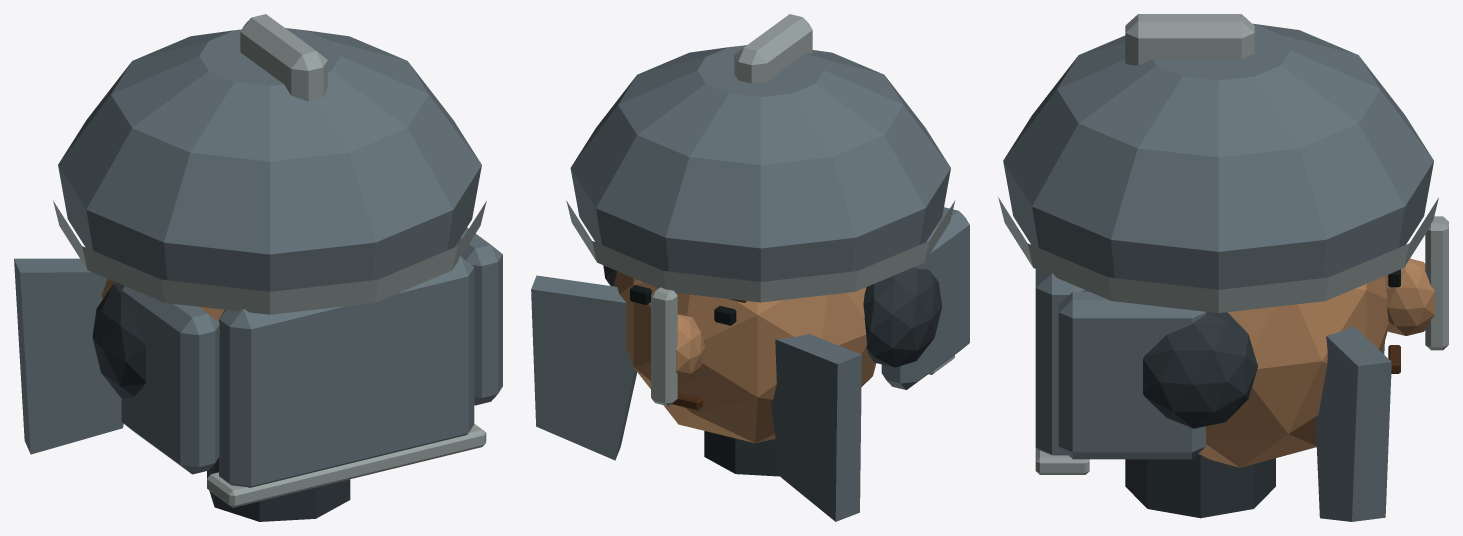
The model's file is Head.glb.
3 renders of one model, left to right at view 1: azimuth 30°, elevation 25°; view 2: azimuth 150°, elevation 25°; view 3: azimuth 270°, elevation 25°, orthographic. The views are drawn at different scales.
Parts seen in each view (by area): view 1: Sculpture; view 2: Sculpture; view 3: Sculpture.
Boxes of the visible parts, bbox=[...] form: Sculpture: bbox=[14, 14, 502, 521]; Sculpture: bbox=[531, 14, 969, 521]; Sculpture: bbox=[998, 14, 1448, 521].
Size of the model in its own units: 0.614 by 0.72 by 0.6275.
